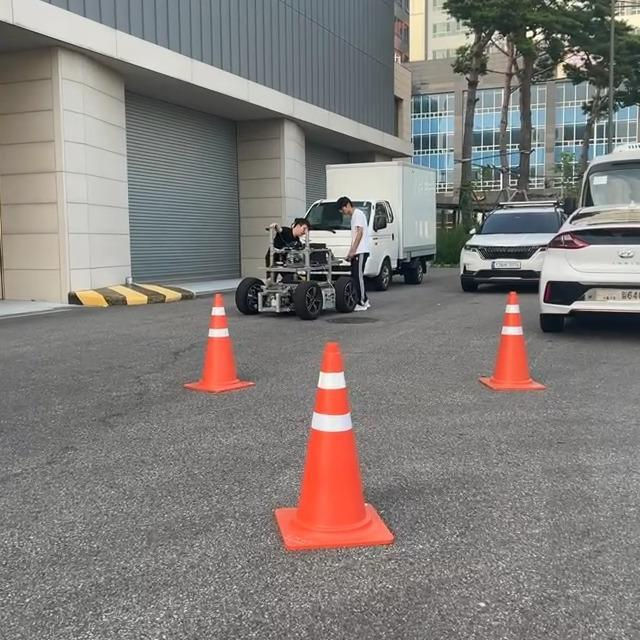fallen_object: (253, 317, 436, 588), (455, 249, 624, 441), (173, 275, 261, 402)
